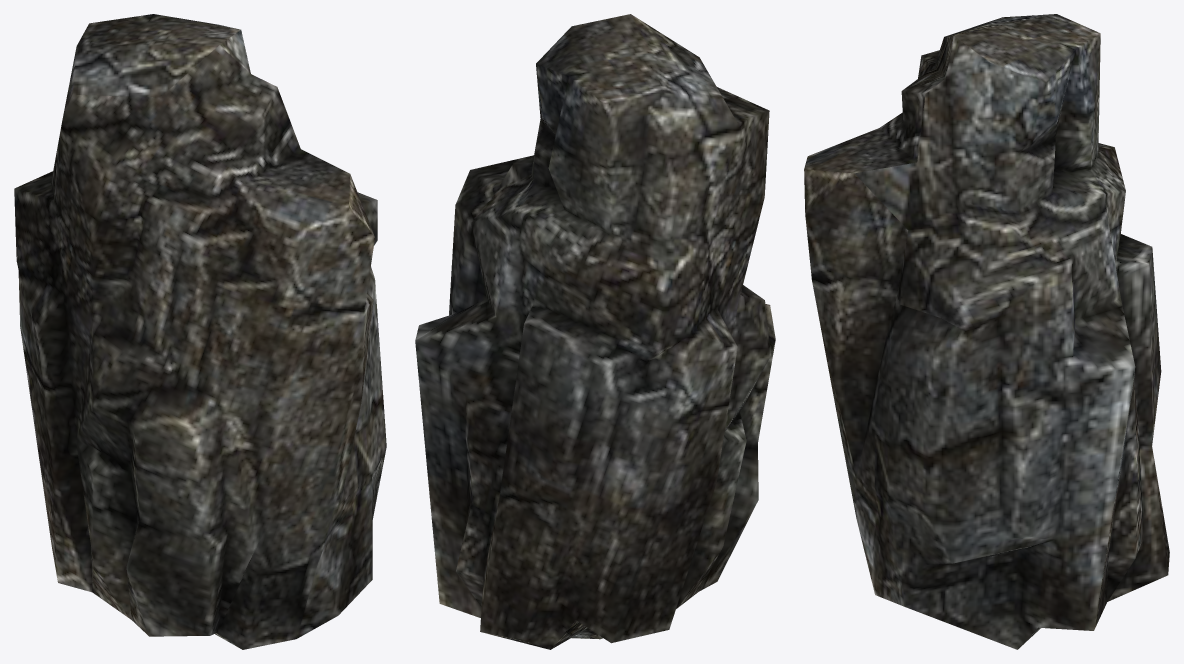
Rendered from Rock2.fbx.
3 views of the same model, side by side, from view 1: azimuth 30°, elevation 25°; view 2: azimuth 150°, elevation 25°; view 3: azimuth 270°, elevation 25° (orthographic). The views are drawn at different scales.
Visible parts, largest first — view 1: Rock2; view 2: Rock2; view 3: Rock2.
Boxes of the visible parts, <box> form: Rock2: <box>14,14,386,649</box>; Rock2: <box>415,14,775,649</box>; Rock2: <box>804,14,1169,649</box>.
Bounding box in the file's own units: 30.57 × 57.89 × 33.68.
